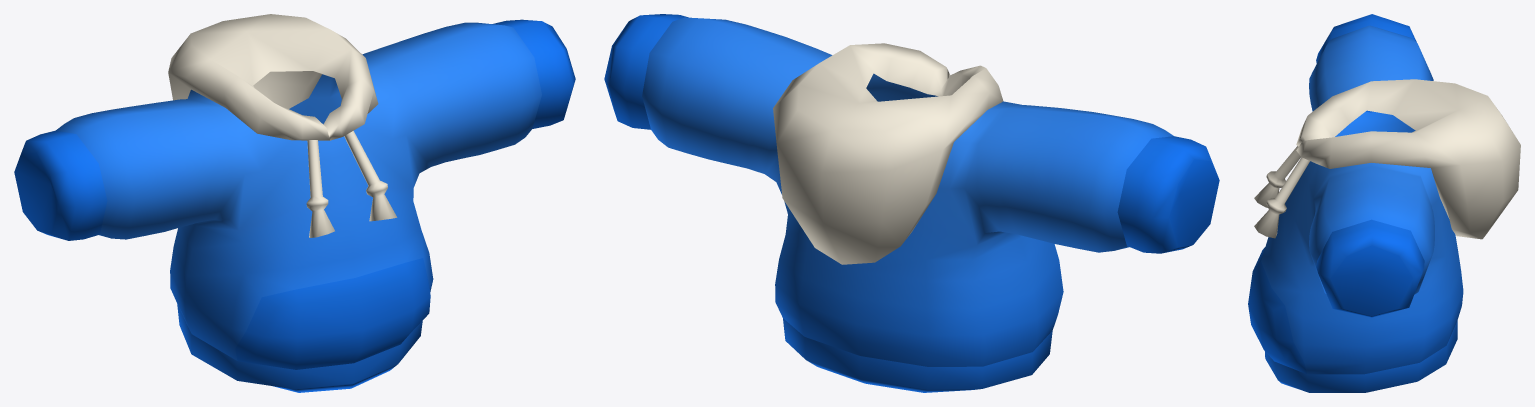
The model's file is Top_28.fbx.
The picture shows the model from 3 angles, left to right: view 1: azimuth 30°, elevation 25°; view 2: azimuth 150°, elevation 25°; view 3: azimuth 270°, elevation 25°; orthographic projection. The views are drawn at different scales.
Visible parts, largest first — view 1: Top_28; view 2: Top_28; view 3: Top_28.
Part boxes in pixels (left/top/right/bottom): Top_28: left=14, top=14, right=575, bottom=392; Top_28: left=604, top=14, right=1219, bottom=392; Top_28: left=1248, top=14, right=1520, bottom=392.
Bounding box in the file's own units: 99.63 × 52.57 × 50.2.
